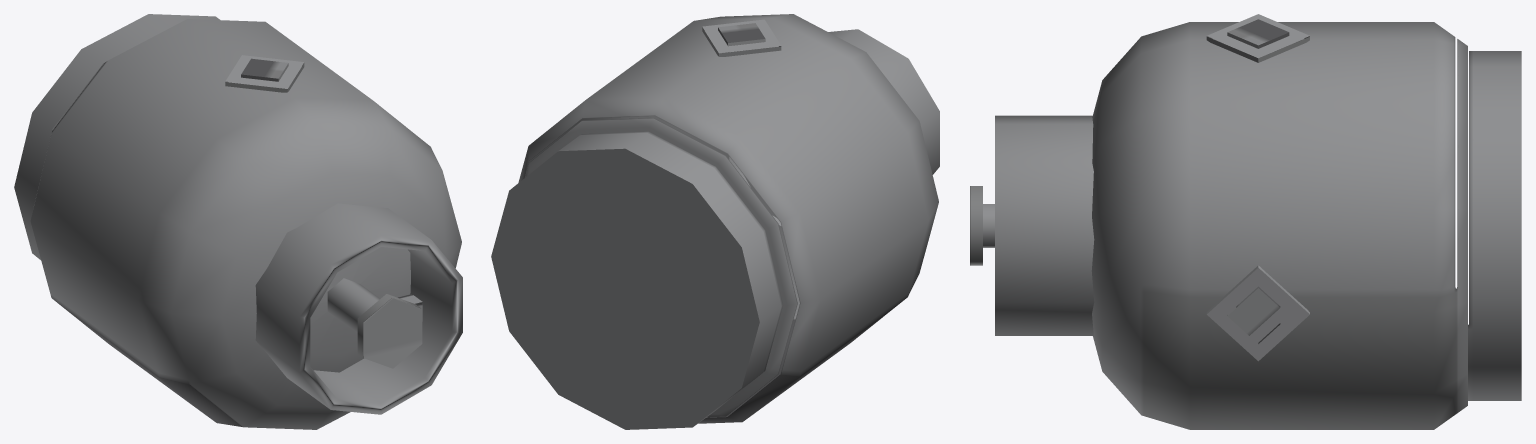
3 renders of one model, left to right at view 1: azimuth 30°, elevation 25°; view 2: azimuth 150°, elevation 25°; view 3: azimuth 270°, elevation 25°, orthographic. The views are drawn at different scales.
Bounding box in the file's own units: 0.4633 × 0.4633 × 0.6129.
